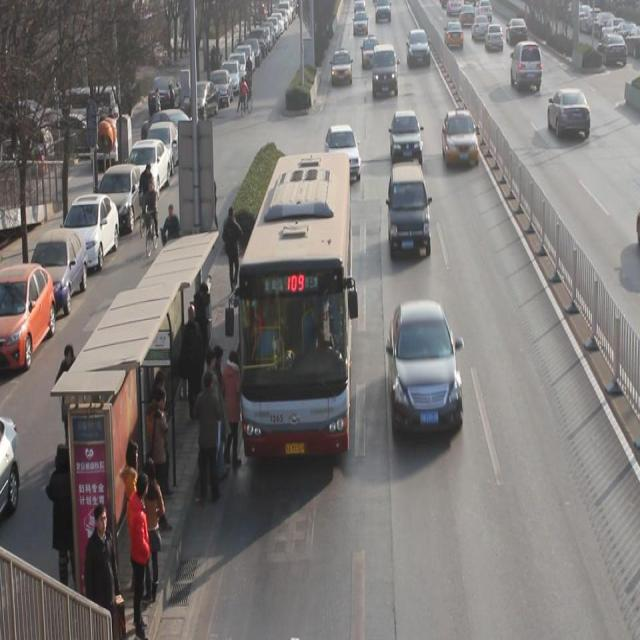car: (388, 302, 463, 434), (441, 107, 478, 169), (547, 90, 592, 140), (324, 125, 361, 182), (389, 112, 423, 162), (407, 29, 430, 68), (331, 48, 352, 86), (444, 19, 464, 51), (506, 18, 528, 44), (362, 35, 378, 70), (485, 24, 504, 53), (471, 15, 489, 42)
truck: (388, 164, 431, 258), (511, 41, 542, 93), (372, 44, 398, 96)
van: (238, 155, 349, 453)
